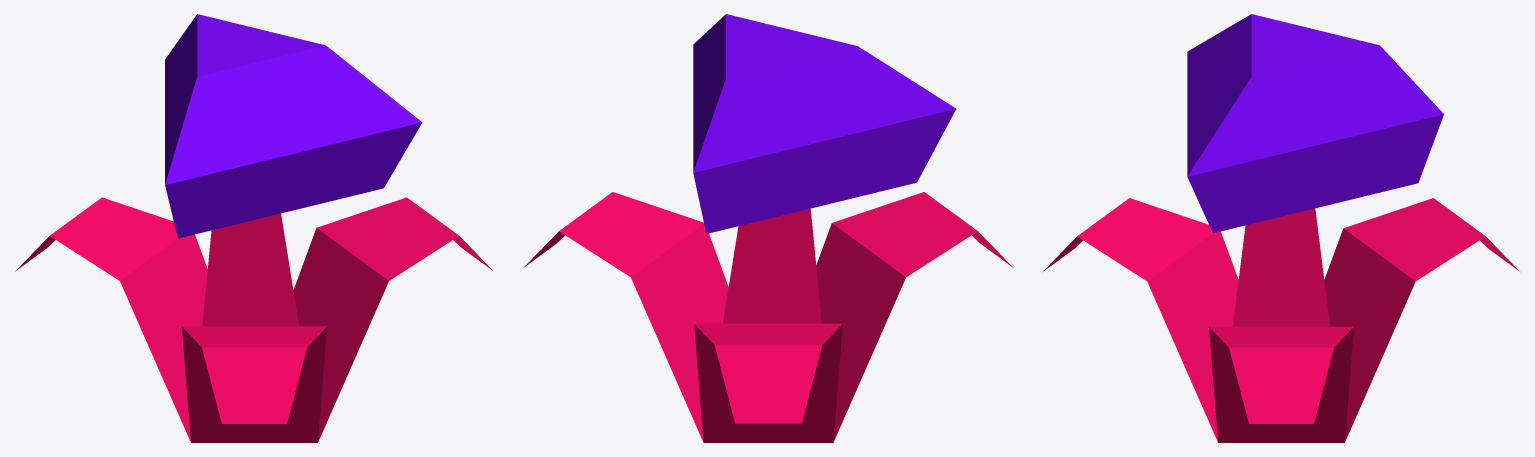
File: R2_flower_6.fbx
The picture shows the model from 3 angles, left to right: view 1: azimuth 30°, elevation 25°; view 2: azimuth 150°, elevation 25°; view 3: azimuth 270°, elevation 25°; orthographic projection. The views are drawn at different scales.
Parts seen in each view (by area): view 1: flower_purpleB3; view 2: flower_purpleB3; view 3: flower_purpleB3.
Boxes of the visible parts, x1,y1,x2,y2 form: flower_purpleB3: [15, 14, 493, 442]; flower_purpleB3: [523, 14, 1013, 442]; flower_purpleB3: [1043, 14, 1519, 442].
Bounding box in the file's own units: 2.07 × 2.09 × 2.39.
